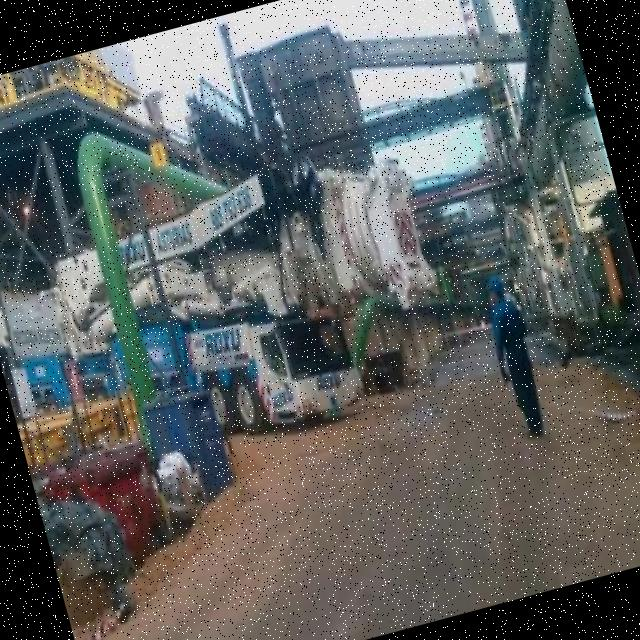Mobile Crane: (0, 140, 457, 500)
